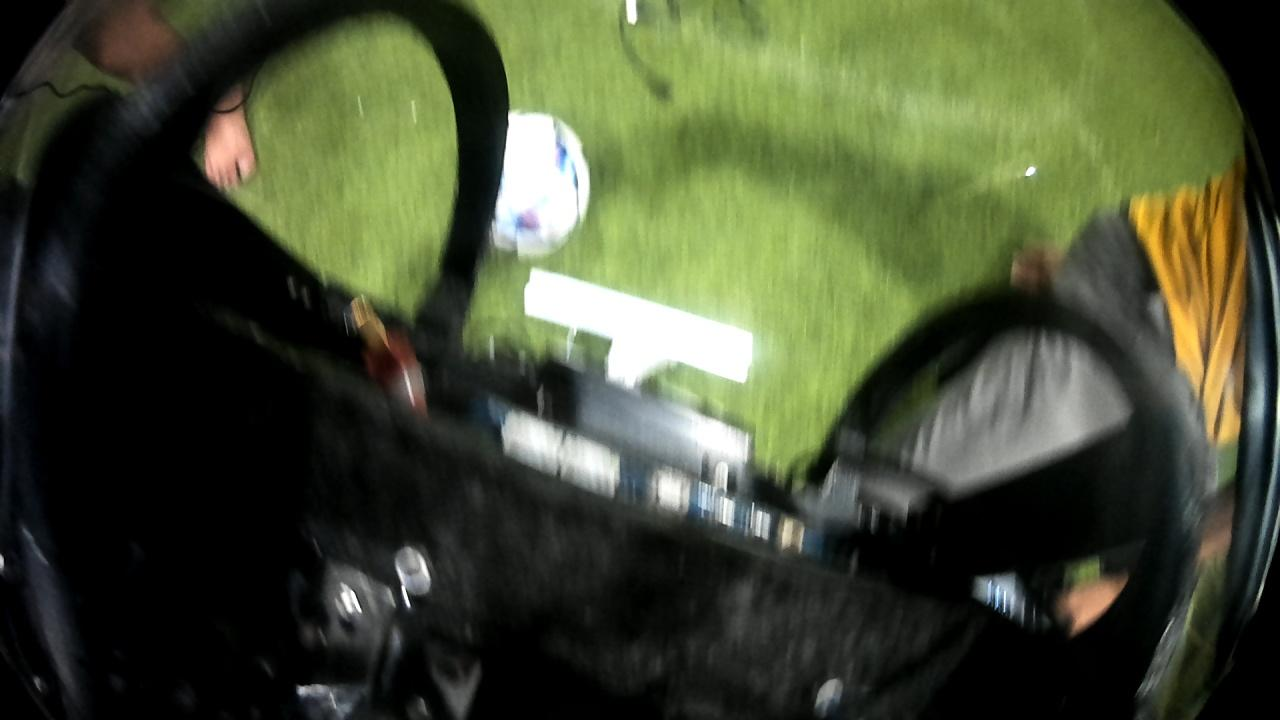ball: (474, 101, 591, 260)
